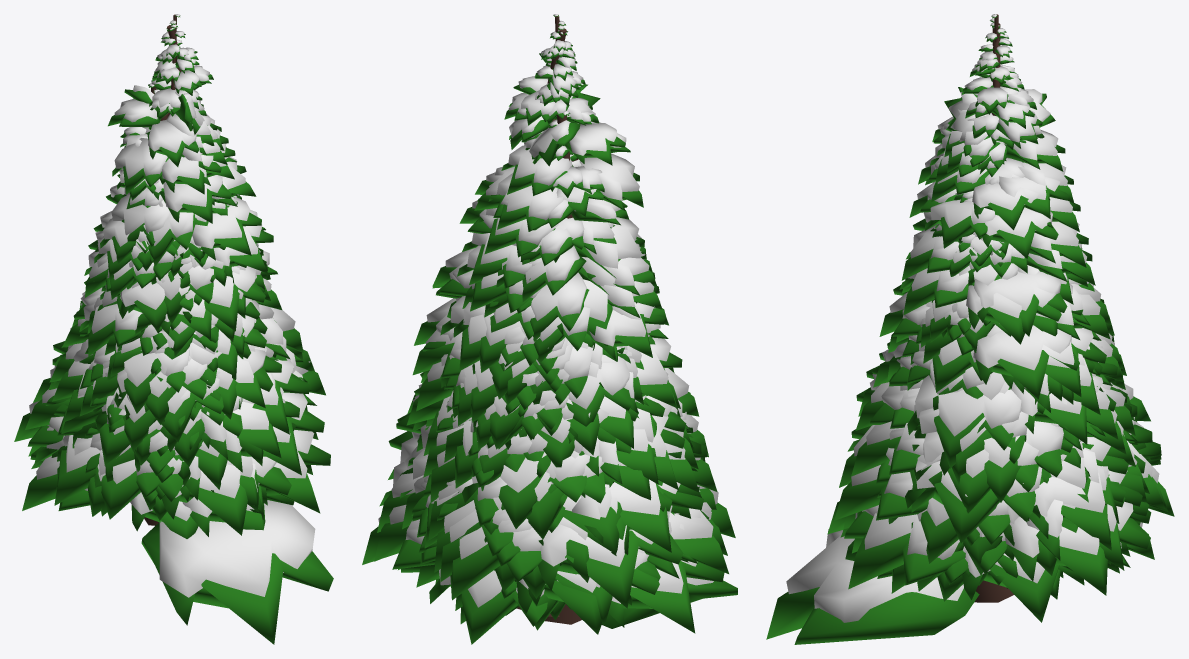
The model's file is snowytrees.glb.
3 renders of one model, left to right at view 1: azimuth 30°, elevation 25°; view 2: azimuth 150°, elevation 25°; view 3: azimuth 270°, elevation 25°, orthographic. The views are drawn at different scales.
Parts seen in each view (by area): view 1: tree.006, tree.004, tree, branch, tree.001, tree.003, tree.009, tree.008; view 2: tree.006, tree, tree.004, tree.001, tree.009, tree.003, tree.008, branch; view 3: tree.006, tree.001, tree, tree.003, branch, tree.009, tree.008, tree.004, tree.005.
Part boxes in pixels (left/top/right/bottom): tree.006: left=33, top=24, right=307, bottom=525; tree.004: left=57, top=83, right=299, bottom=498; tree: left=14, top=194, right=312, bottom=519; branch: left=141, top=500, right=333, bottom=644; tree.001: left=51, top=184, right=325, bottom=482; tree.003: left=101, top=430, right=330, bottom=535; tree.009: left=22, top=446, right=294, bottom=538; tree.008: left=101, top=14, right=206, bottom=296; tree.006: left=400, top=25, right=706, bottom=624; tree: left=402, top=333, right=735, bottom=630; tree.004: left=512, top=110, right=716, bottom=616; tree.001: left=374, top=159, right=699, bottom=605; tree.009: left=398, top=552, right=724, bottom=634; tree.003: left=362, top=438, right=688, bottom=644; tree.008: left=521, top=14, right=617, bottom=361; branch: left=601, top=577, right=737, bottom=628; tree.006: left=847, top=22, right=1137, bottom=545; tree.001: left=834, top=174, right=1151, bottom=577; tree: left=843, top=159, right=1174, bottom=591; tree.003: left=827, top=422, right=1154, bottom=595; branch: left=766, top=529, right=979, bottom=644; tree.009: left=845, top=538, right=1075, bottom=622; tree.008: left=965, top=14, right=1037, bottom=184; tree.004: left=839, top=162, right=1082, bottom=602; tree.005: left=937, top=542, right=1130, bottom=601.
Size of the model in its own units: 1.64 by 3.23 by 1.9.
